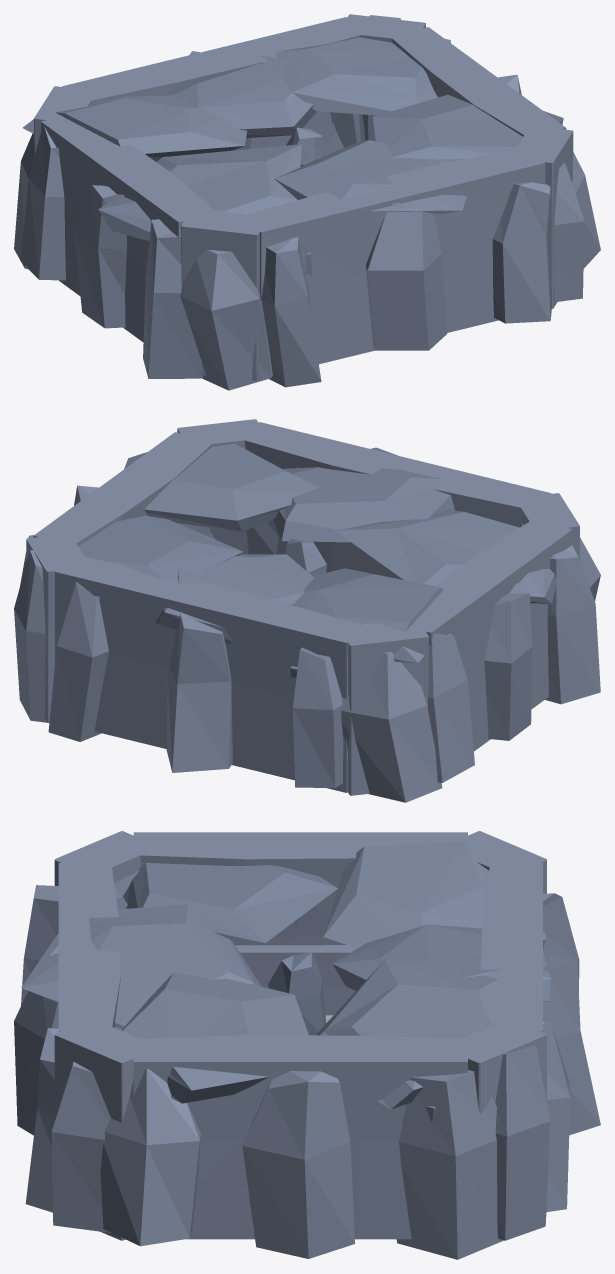
Rendered from rocklock-rocks.fbx.
The picture shows the model from 3 angles, top to bottom: view 1: azimuth 30°, elevation 25°; view 2: azimuth 150°, elevation 25°; view 3: azimuth 270°, elevation 25°; orthographic projection. The views are drawn at different scales.
Visible parts, largest first — view 1: EndBoundary1Stone, SideBoundary-1Stone, CavernColumn04, CeilingSlab2, CavernColumn06, EndBoundary-1Stone, CeilingSlab3, CeilingSlab0, CavernColumn03, CeilingSlab5, CavernColumn07, CavernColumn05 (+14 smaller); view 2: EndBoundary-1Stone, SideBoundary-1Stone, EndBoundary1Stone, CavernColumn10, CeilingSlab5, CeilingSlab4, CavernColumn12, CeilingSlab3, CavernColumn13, CavernColumn07, SideBoundary1Stone, CavernColumn08 (+14 smaller); view 3: SideBoundary1Stone, CavernColumn00, CavernColumn15, CavernColumn01, CeilingSlab0, CeilingSlab4, CeilingSlab5, SideBoundary-1Stone, CeilingSlab3, CeilingSlab2, CavernColumn14, EndBoundary-1Stone (+15 smaller).
Part boxes in pixels (x1=…): EndBoundary1Stone: x1=240, y1=148, x2=545, y2=375; SideBoundary-1Stone: x1=41, y1=116, x2=215, y2=342; CavernColumn04: x1=366, y1=203, x2=447, y2=350; CeilingSlab2: x1=275, y1=37, x2=437, y2=115; CavernColumn06: x1=180, y1=249, x2=271, y2=390; EndBoundary-1Stone: x1=62, y1=17, x2=366, y2=155; CeilingSlab3: x1=98, y1=144, x2=301, y2=240; CeilingSlab0: x1=22, y1=95, x2=246, y2=161; CavernColumn03: x1=492, y1=182, x2=551, y2=323; CeilingSlab5: x1=372, y1=94, x2=563, y2=162; CavernColumn07: x1=143, y1=219, x2=203, y2=378; CavernColumn05: x1=261, y1=237, x2=321, y2=387; EndBoundary-1Stone: x1=55, y1=557, x2=360, y2=792; SideBoundary-1Stone: x1=411, y1=519, x2=572, y2=751; EndBoundary1Stone: x1=242, y1=422, x2=551, y2=579; CavernColumn10: x1=341, y1=651, x2=442, y2=802; CeilingSlab5: x1=124, y1=443, x2=318, y2=531; CeilingSlab4: x1=267, y1=447, x2=454, y2=542; CavernColumn12: x1=166, y1=612, x2=232, y2=772; CeilingSlab3: x1=335, y1=509, x2=556, y2=603; CavernColumn13: x1=48, y1=582, x2=108, y2=741; CavernColumn07: x1=545, y1=545, x2=600, y2=704; SideBoundary1Stone: x1=33, y1=432, x2=213, y2=545; CavernColumn08: x1=484, y1=583, x2=532, y2=740; SideBoundary1Stone: x1=133, y1=1035, x2=467, y2=1239; CavernColumn00: x1=242, y1=1071, x2=355, y2=1258; CavernColumn15: x1=396, y1=1070, x2=503, y2=1259; CavernColumn01: x1=100, y1=1068, x2=200, y2=1246; CeilingSlab0: x1=323, y1=841, x2=488, y2=948; CeilingSlab4: x1=21, y1=904, x2=261, y2=1028; CeilingSlab5: x1=121, y1=972, x2=308, y2=1103; SideBoundary-1Stone: x1=133, y1=832, x2=467, y2=945; CeilingSlab3: x1=123, y1=863, x2=337, y2=945; CeilingSlab2: x1=315, y1=959, x2=498, y2=1109; CavernColumn14: x1=495, y1=1045, x2=550, y2=1240; EndBoundary-1Stone: x1=481, y1=863, x2=542, y2=1032.
Size of the model in its own units: 29902 by 10028 by 27574.
